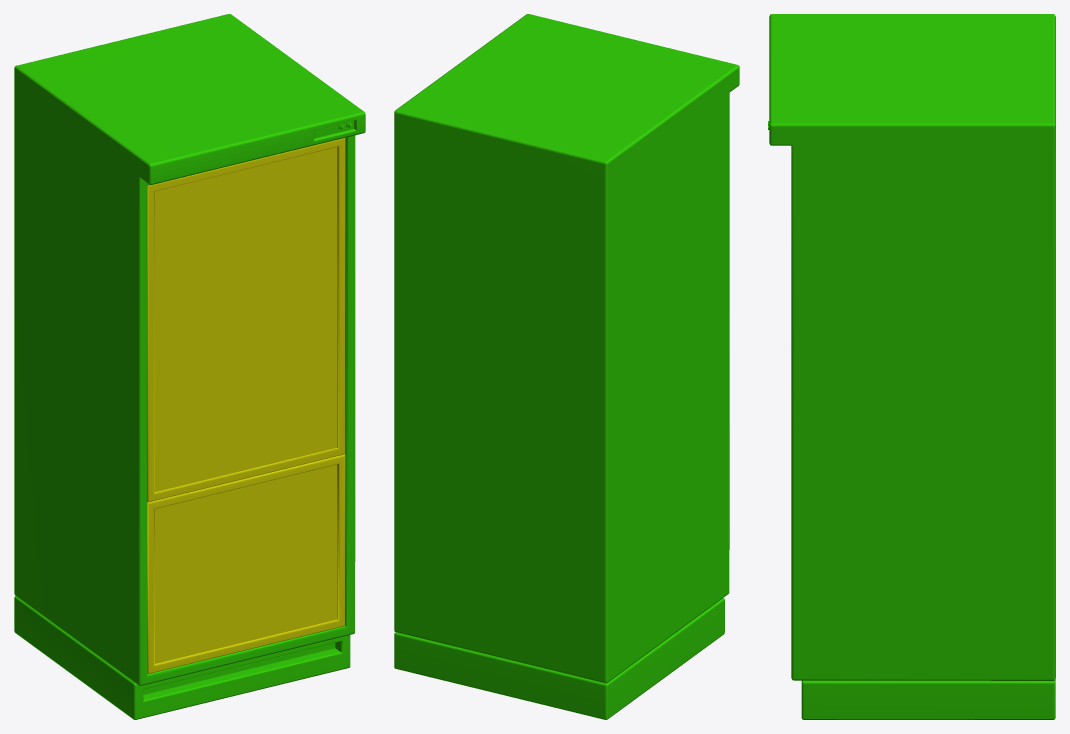
Rendered from kuchnia_09_lodowka_body.fbx.
The picture shows the model from 3 angles, left to right: view 1: azimuth 30°, elevation 25°; view 2: azimuth 150°, elevation 25°; view 3: azimuth 270°, elevation 25°; orthographic projection. The views are drawn at different scales.
Parts seen in each view (by area): view 1: Mesh; view 2: Mesh; view 3: Mesh.
Part boxes in pixels (x1,y1,x2,y2): Mesh: (14, 14, 365, 719); Mesh: (394, 14, 739, 719); Mesh: (768, 14, 1055, 719).
Bounding box in the file's own units: 100 × 250 × 109.
